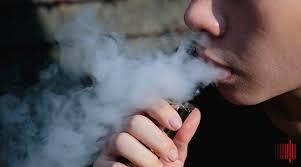smoker: (65, 0, 301, 167)
